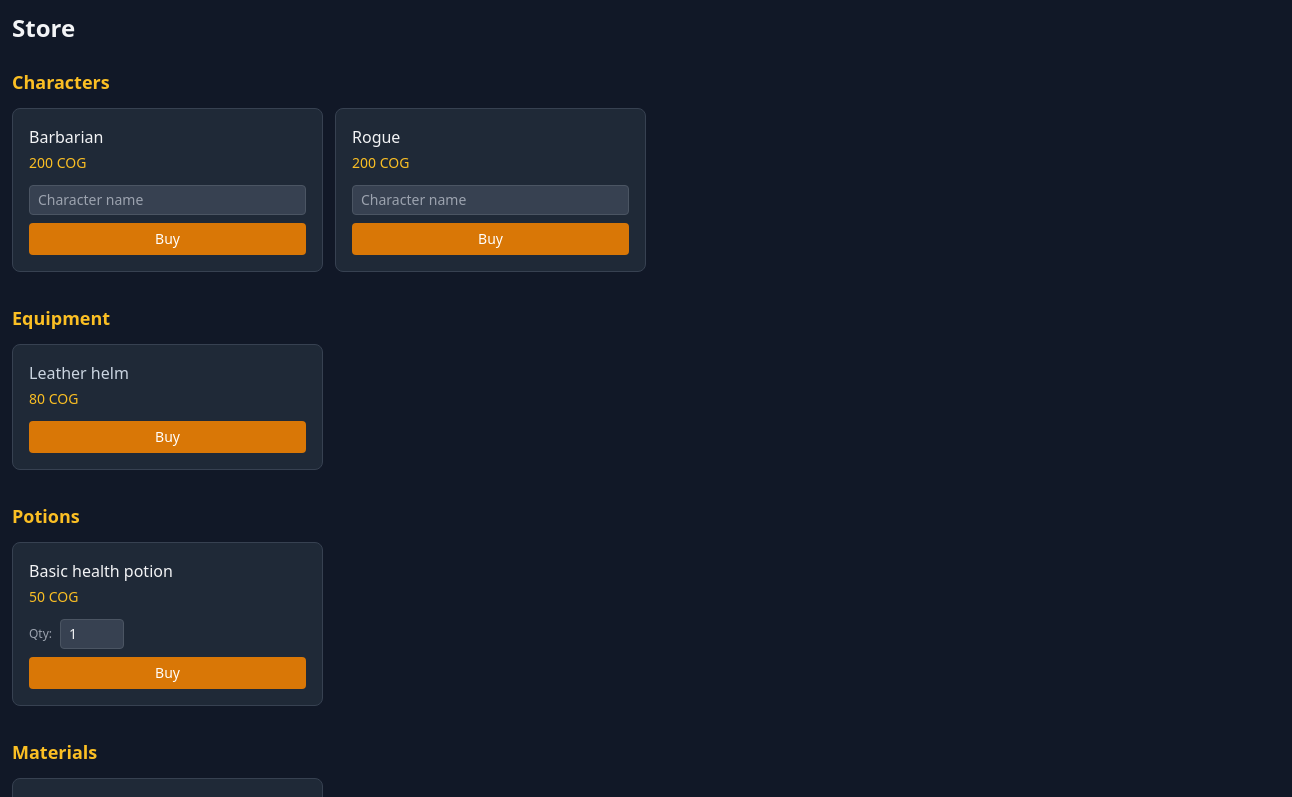
StorePage › shows error on insufficient COG
The width and height of the screenshot is (1292, 797).
Expected: the text "Leather helm" is shown, x1=29 y1=362 x2=129 y2=384
# Click buy on the equipment item (3rd buy button: after 2 characters)
Click the button "Buy" below "80": (168, 437) x1=29 y1=421 x2=306 y2=453
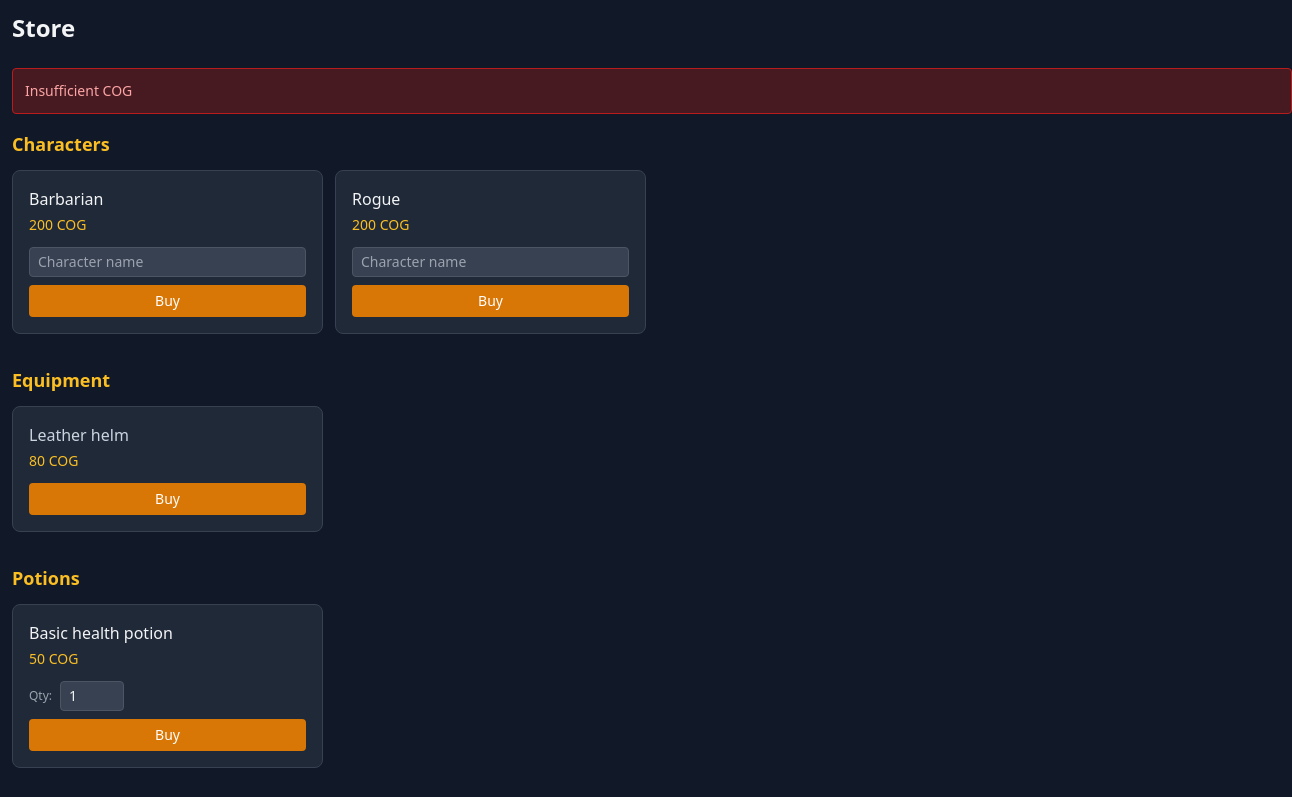
Result: the text "Insufficient COG" is shown at x1=12 y1=68 x2=1291 y2=114
